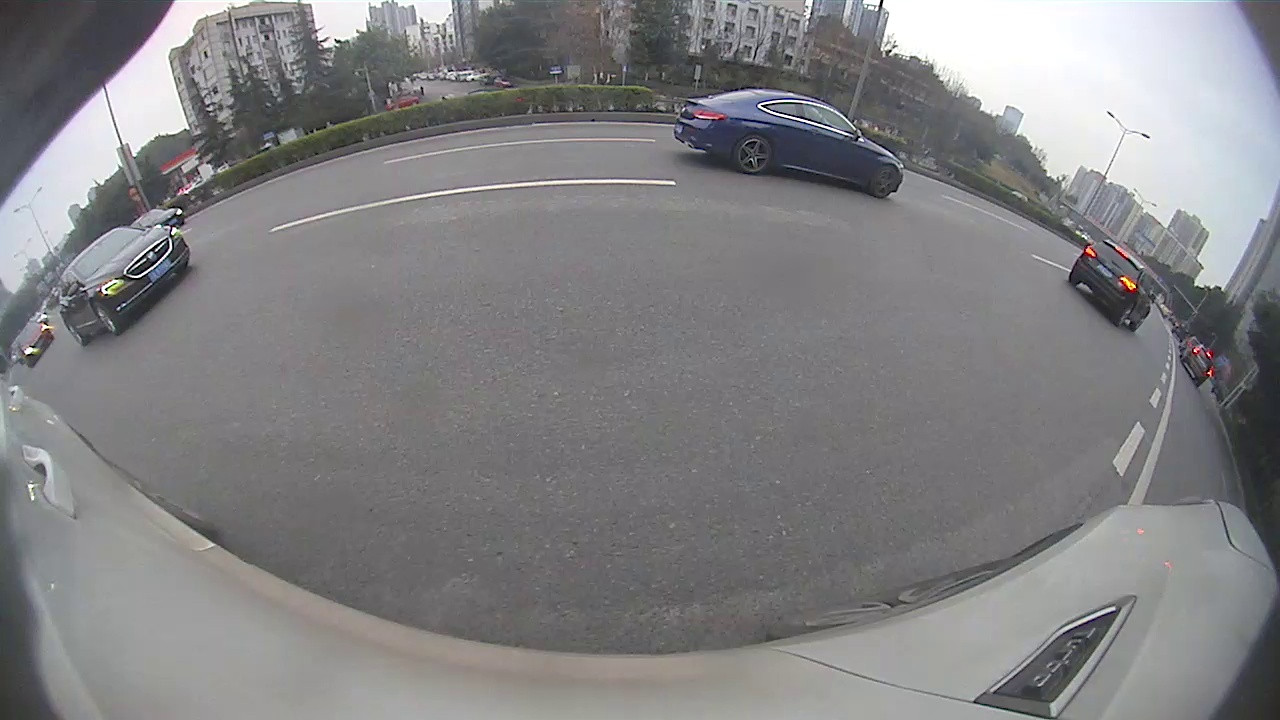car: (674, 86, 903, 198), (57, 225, 190, 342), (1069, 240, 1154, 330), (1181, 343, 1214, 386)
front: (866, 162, 902, 199), (92, 299, 127, 337)
rear: (731, 133, 774, 179)
